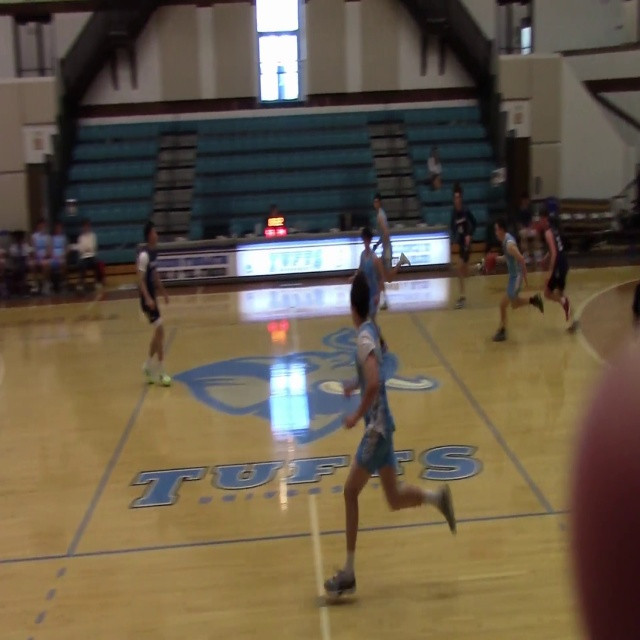Basketball: (567, 338, 639, 639), (484, 253, 497, 272)
